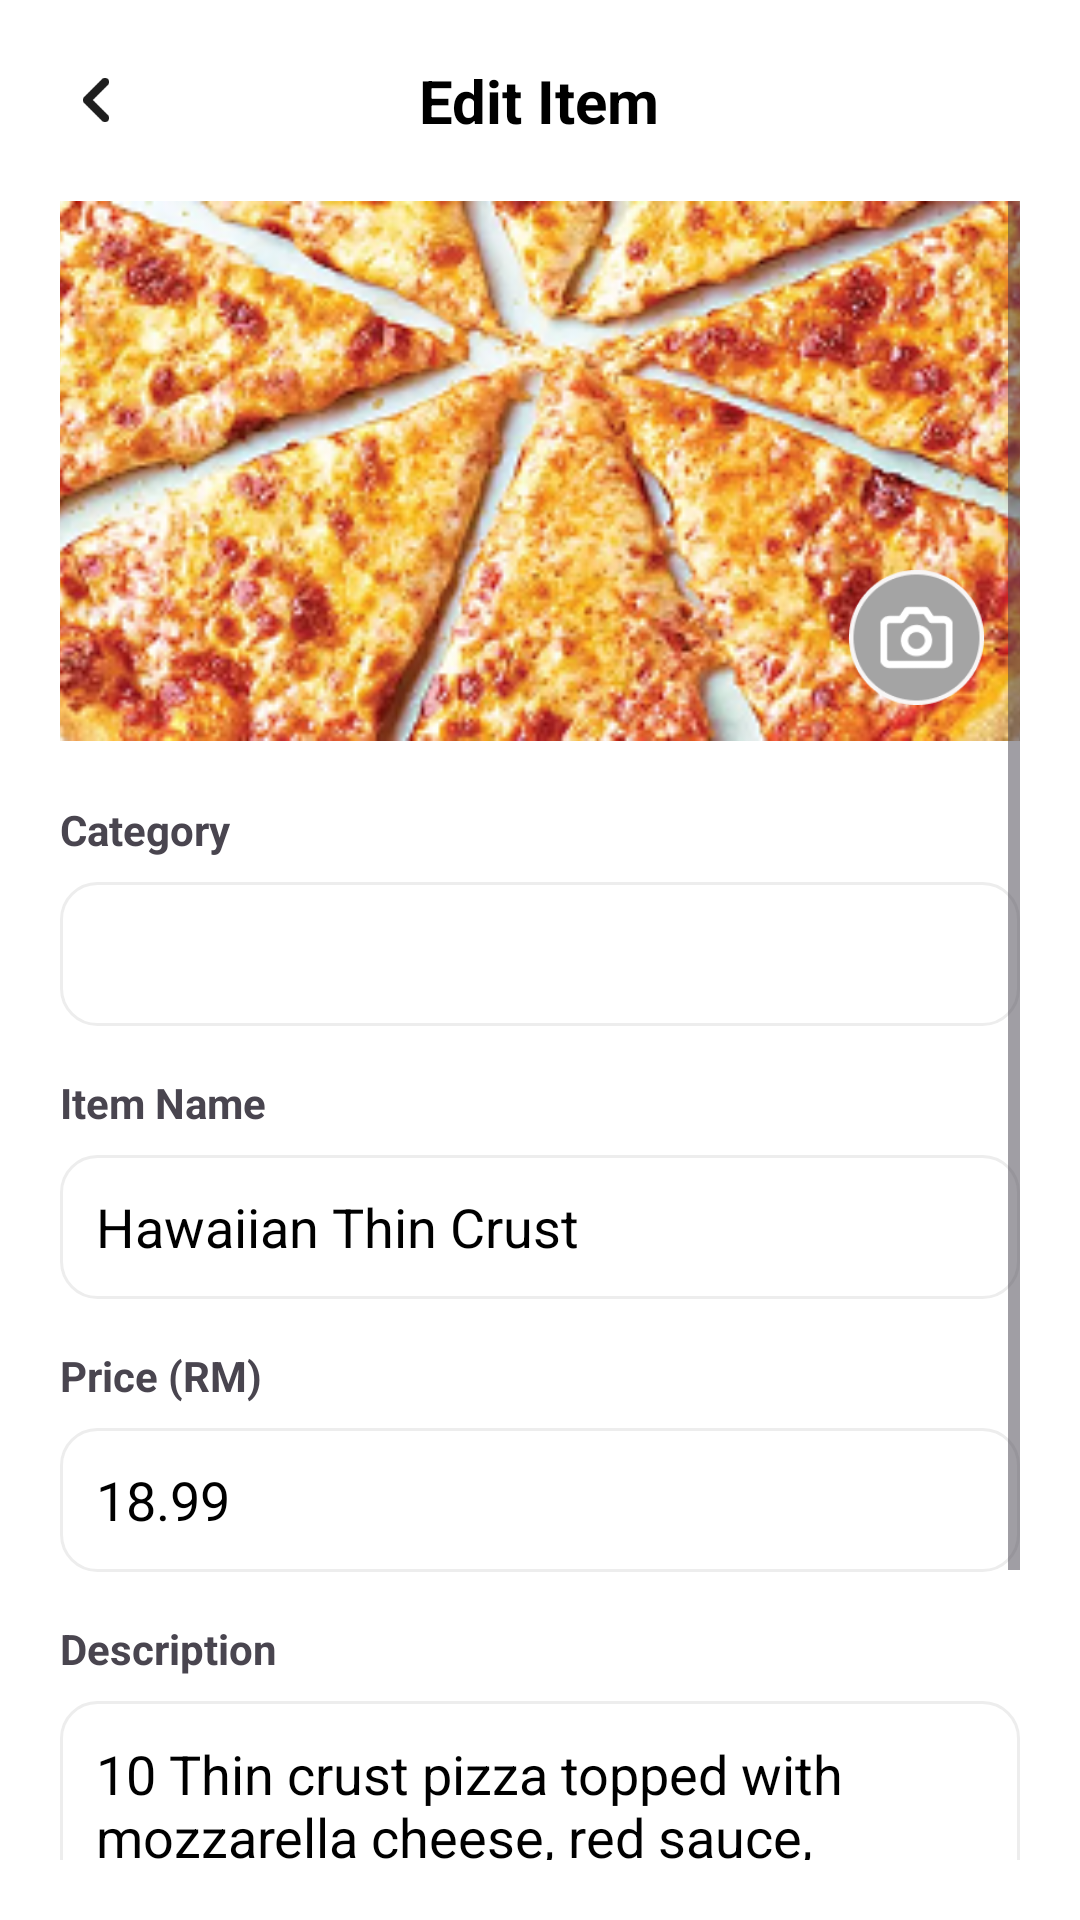

Where icons sit on this 1080 x 1920 app screen, as {"x1": x1, "y1": y1, "x2": x2, "y2": y2}:
back: {"x1": 83, "y1": 78, "x2": 109, "y2": 122}
